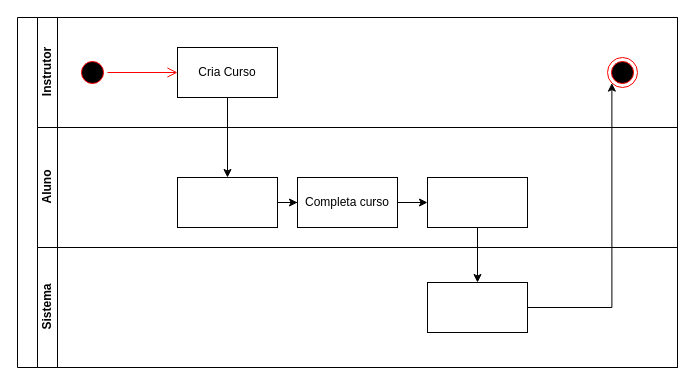
The diagram is 695 pixels wide and 385 high, and some of its shapes have lost their labels. Each missing label, with the centre of its shape:
Avalia Curso: the point at 477,202
Compra curso: the point at 227,202
Gerar Certificado: the point at 477,307
